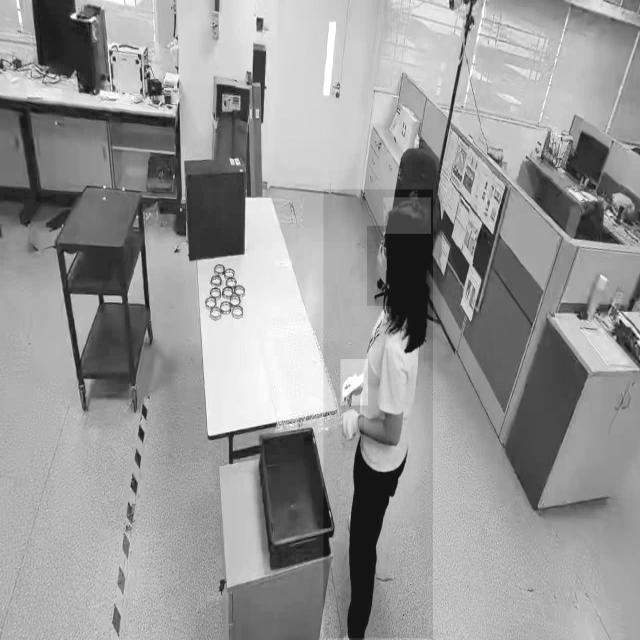face_mask: (367, 226, 396, 306)
hand_glove: (340, 359, 368, 405), (342, 402, 364, 452)
head_nohelmet: (384, 197, 432, 235)
person: (324, 189, 434, 639)
